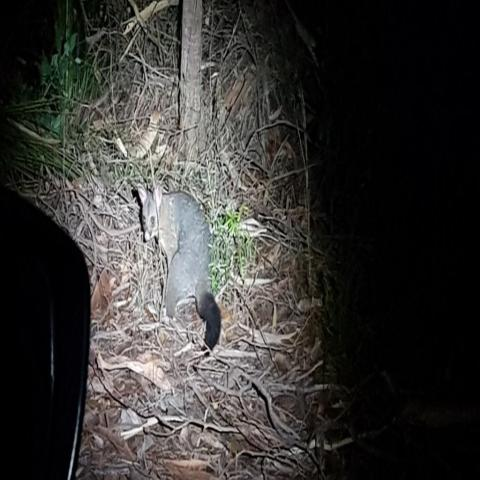small_animal: (134, 180, 222, 354)
